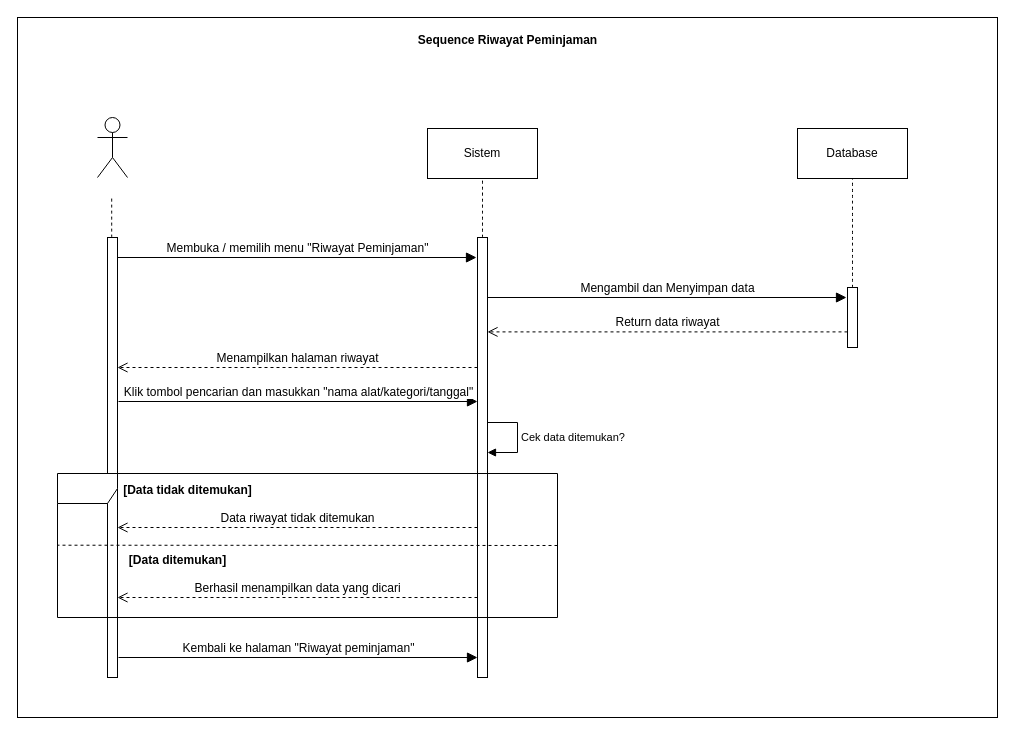
The diagram is 1015 pixels wide and 735 high, and some of its shapes have lost their labels. Here are the shapes that lost their labels. From the top down, the box of each, then its label:
(96, 116, 128, 178): Peminjam
(56, 472, 558, 618): alt
